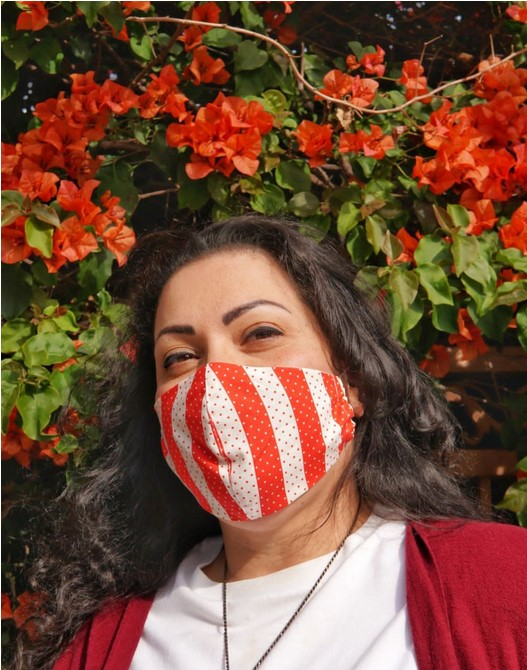face_with_mask: (129, 229, 372, 530)
